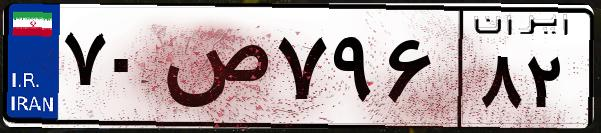0: (110, 28, 158, 98)
2: (525, 38, 570, 115)
6: (385, 28, 445, 110)
7: (270, 28, 330, 110), (57, 26, 110, 100)
8: (475, 38, 525, 113)
9: (330, 28, 385, 110)
ص: (158, 20, 270, 120)
